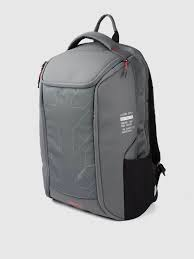backpack: (37, 13, 166, 221)
